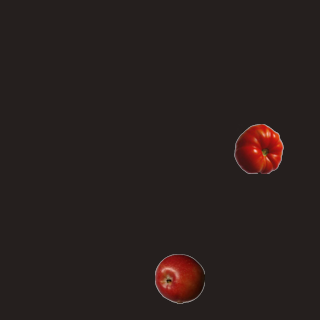Apple Braeburn: (154, 253, 204, 303)
Tomato 3: (233, 123, 283, 173)
